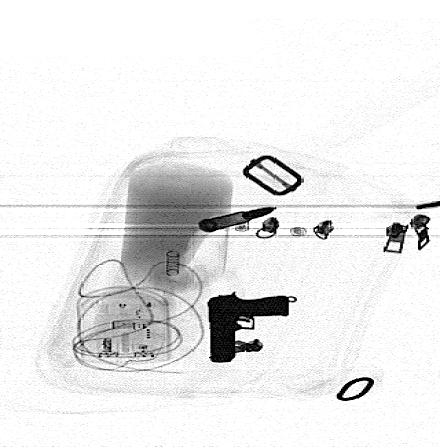Bullet: (201, 206, 275, 234)
Gun: (206, 293, 290, 362)
